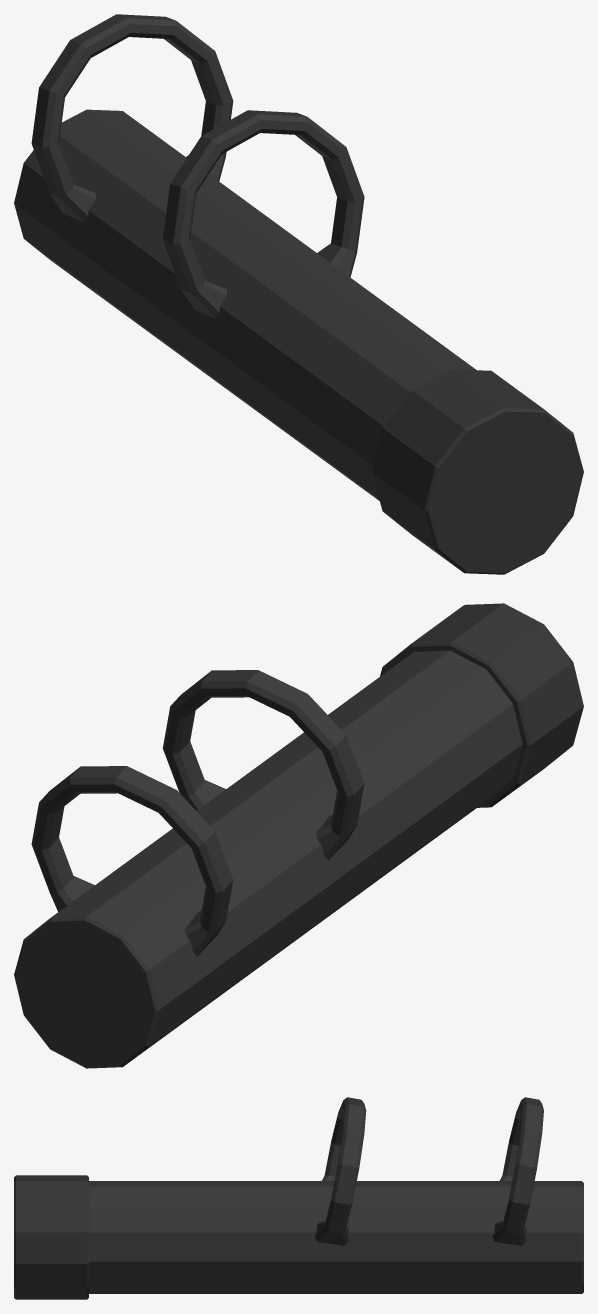
Rendered from Battering Ram_A.fbx.
The picture shows the model from 3 angles, top to bottom: view 1: azimuth 30°, elevation 25°; view 2: azimuth 150°, elevation 25°; view 3: azimuth 270°, elevation 25°; orthographic projection. The views are drawn at different scales.
Parts seen in each view (by area): view 1: Battering Ram_A; view 2: Battering Ram_A; view 3: Battering Ram_A.
Part boxes in pixels (box(x1,y1,x2,y2)): Battering Ram_A: box(14, 14, 583, 574); Battering Ram_A: box(14, 603, 583, 1068); Battering Ram_A: box(14, 1097, 583, 1299).
Size of the model in its own units: 0.2143 by 0.3002 by 0.8159.
